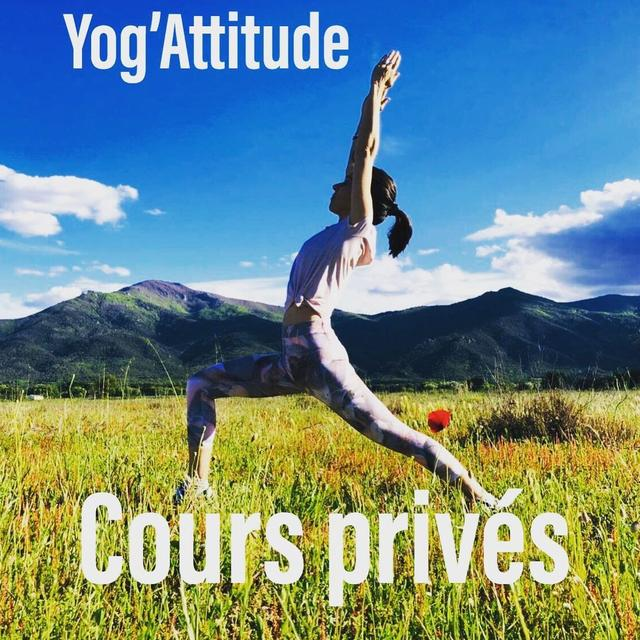Warrior_I: (163, 34, 523, 525)
